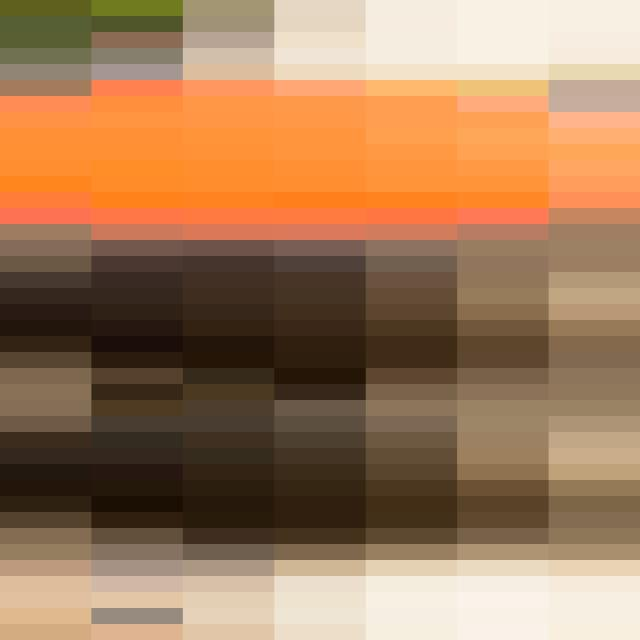red_light: (20, 59, 633, 563)
